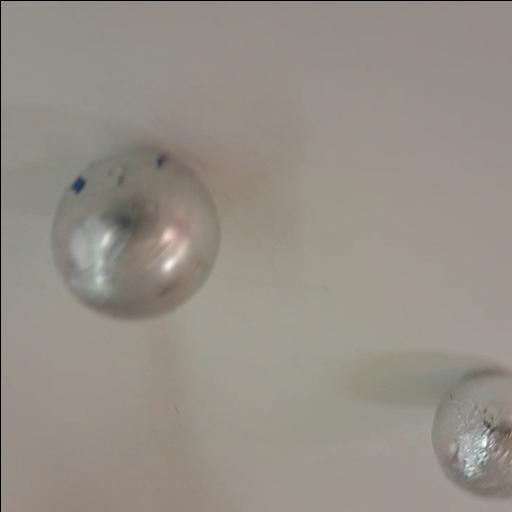alive: (42, 140, 224, 324), (431, 374, 512, 500)
